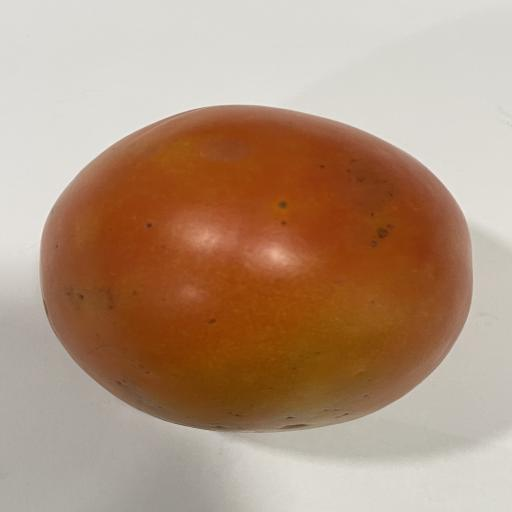unripe: (40, 105, 472, 432)
